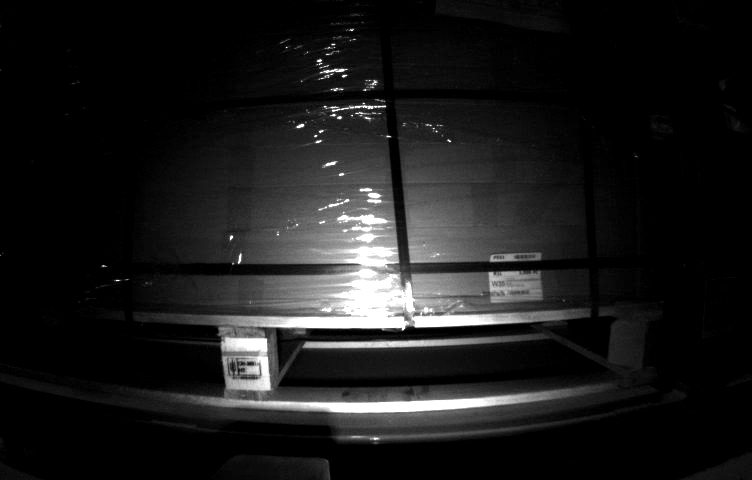True Barcode: (488, 252, 543, 301)
